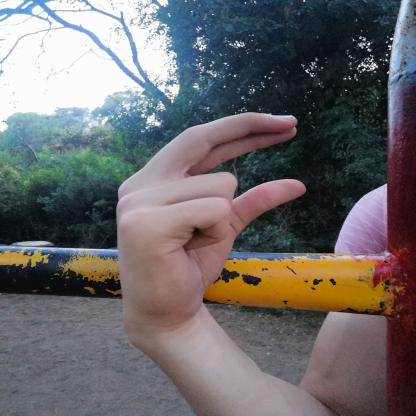DHELL: (101, 103, 320, 336)
